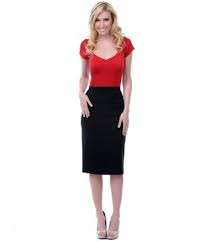F_tailored skirt: (78, 84, 130, 179)
